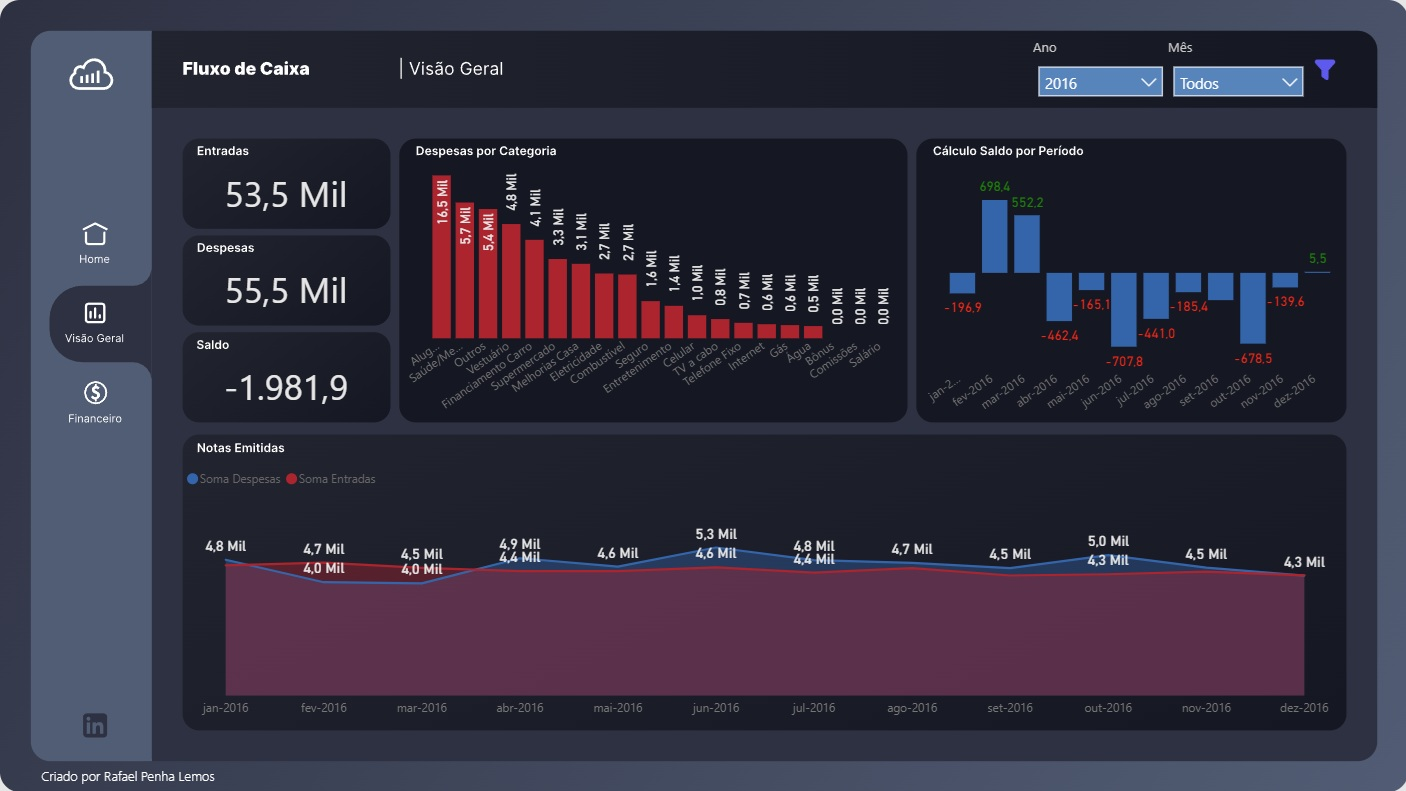

What the dashboard file says about the page in this screenshot:
{"tool":"powerbi","page":{"name":"Fluxo de Caixa","canvas":[1280,720],"ordinal":1},"visuals":[{"type":"card","title":"Entradas","fields":{"Values":["Fluxo de Caixa.Soma Entradas"]},"box":[164.7,136.3,191.1,62.1],"z":2000},{"type":"card","title":"Despesas","fields":{"Values":["Fluxo de Caixa.Soma Despesas"]},"box":[164.7,223.7,191.1,61.6],"z":3000},{"type":"card","title":"Saldo","fields":{"Values":["Fluxo de Caixa.Cálculo Saldo"]},"box":[164.7,310,191.1,65.3],"z":4000},{"type":"slicer","title":"Ano","fields":{"Values":["Calendário.Ano"]},"box":[939.1,25.5,122.7,61.8],"z":5000},{"type":"slicer","title":"Mês","fields":{"Values":["Calendário.Mês Abrev"]},"box":[1061.8,25.5,128.2,61.8],"z":6000},{"type":"clusteredColumnChart","fields":{"Category":["Fluxo de Caixa.Categoria"],"Y":["Fluxo de Caixa.Soma Despesas"]},"box":[363.6,136.4,460.9,239.1],"z":7000},{"type":"clusteredColumnChart","fields":{"Y":["Fluxo de Caixa.Cálculo Saldo"],"Category":["Calendário.Mês e Ano"]},"box":[833.6,136.4,392.7,239.1],"z":8000},{"type":"areaChart","fields":{"Y":["Fluxo de Caixa.Soma Despesas","Fluxo de Caixa.Soma Entradas"],"Category":["Calendário.Mês e Ano"]},"box":[164.5,407.3,1061.8,244.5],"z":9000},{"type":"textbox","box":[29.1,680.9,187.3,32.7],"z":10000},{"type":"actionButton","box":[59.1,186.4,56.4,51.8],"z":10001},{"type":"actionButton","box":[65.5,630.9,41.8,40],"z":10002}]}

Visuals, with their boxes in screenshot pixels (x1, y1, x2, y2), scaled from the page's 1280x720 canvas onto the 1406x791 screenshot:
"Entradas" card: box(181, 150, 391, 218)
"Despesas" card: box(181, 246, 391, 313)
"Saldo" card: box(181, 341, 391, 412)
"Ano" slicer: box(1032, 28, 1166, 96)
"Mês" slicer: box(1166, 28, 1307, 96)
clusteredColumnChart - Fluxo de Caixa.Categoria x Fluxo de Caixa.Soma Despesas: box(399, 150, 906, 413)
clusteredColumnChart - Fluxo de Caixa.Cálculo Saldo x Calendário.Mês e Ano: box(916, 150, 1347, 413)
areaChart - Fluxo de Caixa.Soma Despesas x Fluxo de Caixa.Soma Entradas: box(181, 447, 1347, 716)
textbox: box(32, 748, 238, 784)
actionButton: box(65, 205, 127, 262)
actionButton: box(72, 693, 118, 737)
